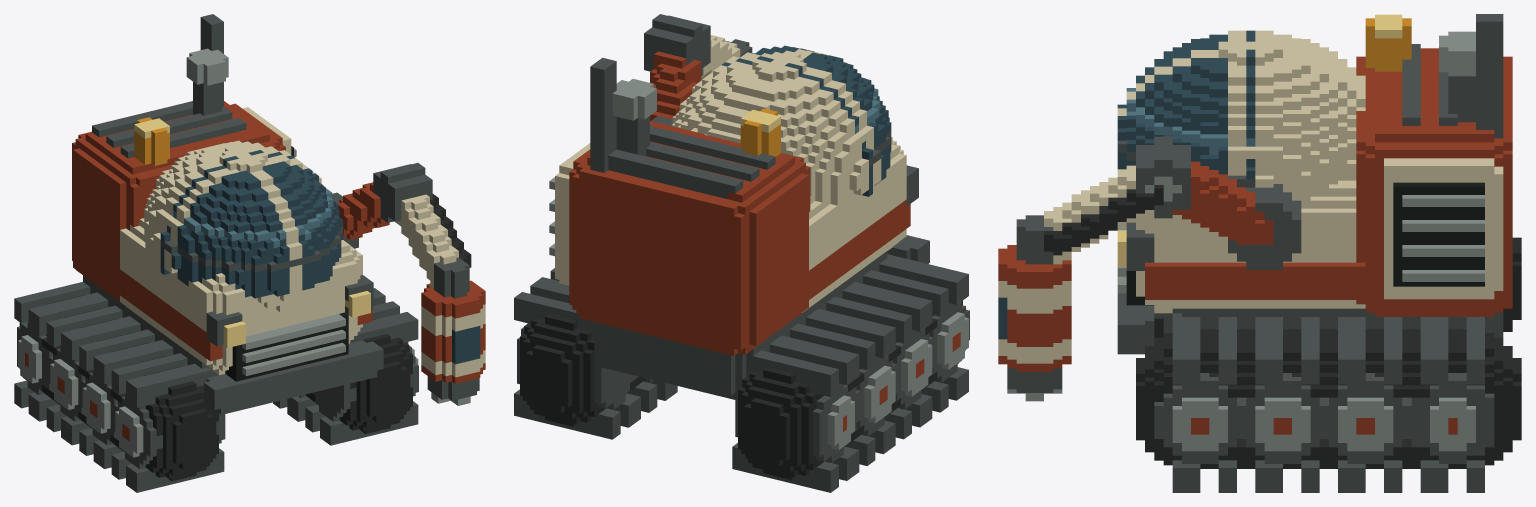
Rendered from thermal_rover.glb.
3 renders of one model, left to right at view 1: azimuth 30°, elevation 25°; view 2: azimuth 150°, elevation 25°; view 3: azimuth 270°, elevation 25°, orthographic. The views are drawn at different scales.
Visible parts, largest first — view 1: thermal_rover; view 2: thermal_rover; view 3: thermal_rover.
Part boxes in pixels (box(x1,y1,x2,y2)): thermal_rover: box(14, 14, 485, 492); thermal_rover: box(514, 14, 969, 492); thermal_rover: box(998, 14, 1521, 492).
Size of the model in its own units: 3.22 by 3.57 by 3.99.
